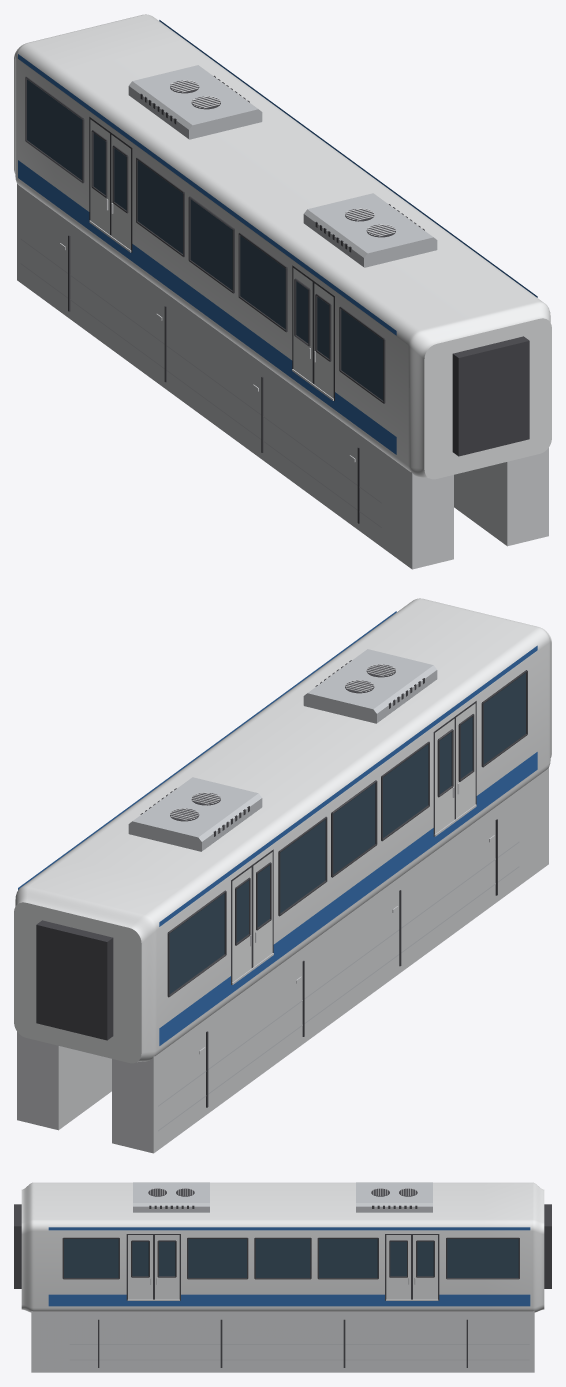
Rendered from 309_close.fbx.
The picture shows the model from 3 angles, top to bottom: view 1: azimuth 30°, elevation 25°; view 2: azimuth 150°, elevation 25°; view 3: azimuth 270°, elevation 25°; orthographic projection. The views are drawn at different scales.
Parts seen in each view (by area): view 1: 309_close; view 2: 309_close; view 3: 309_close.
Part boxes in pixels (x1,y1,x2,y2): 309_close: (14,14,551,569); 309_close: (14,598,551,1153); 309_close: (14,1182,551,1372).
Size of the model in its own units: 2.77 by 4.58 by 14.
